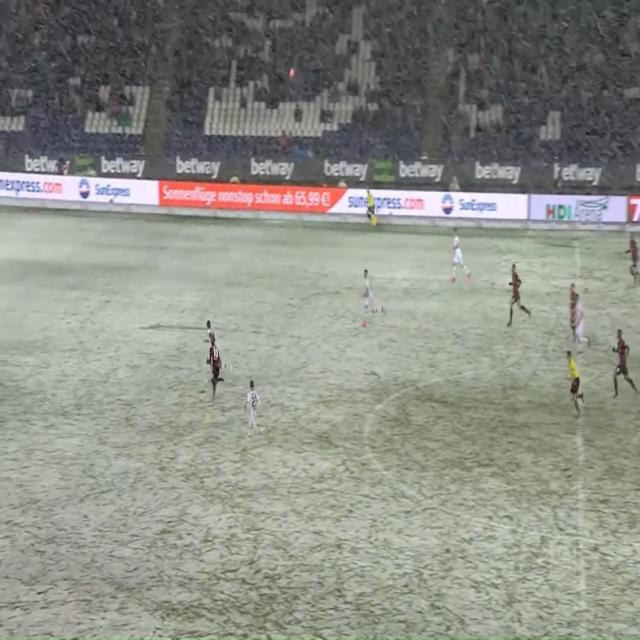ball: (288, 65, 296, 81)
player: (501, 254, 533, 332), (606, 329, 638, 405), (358, 259, 389, 332), (443, 224, 471, 290), (241, 374, 266, 447), (206, 331, 229, 399), (623, 232, 640, 293), (575, 292, 593, 348), (564, 279, 579, 346)
referee: (562, 350, 590, 414), (362, 183, 382, 229)
